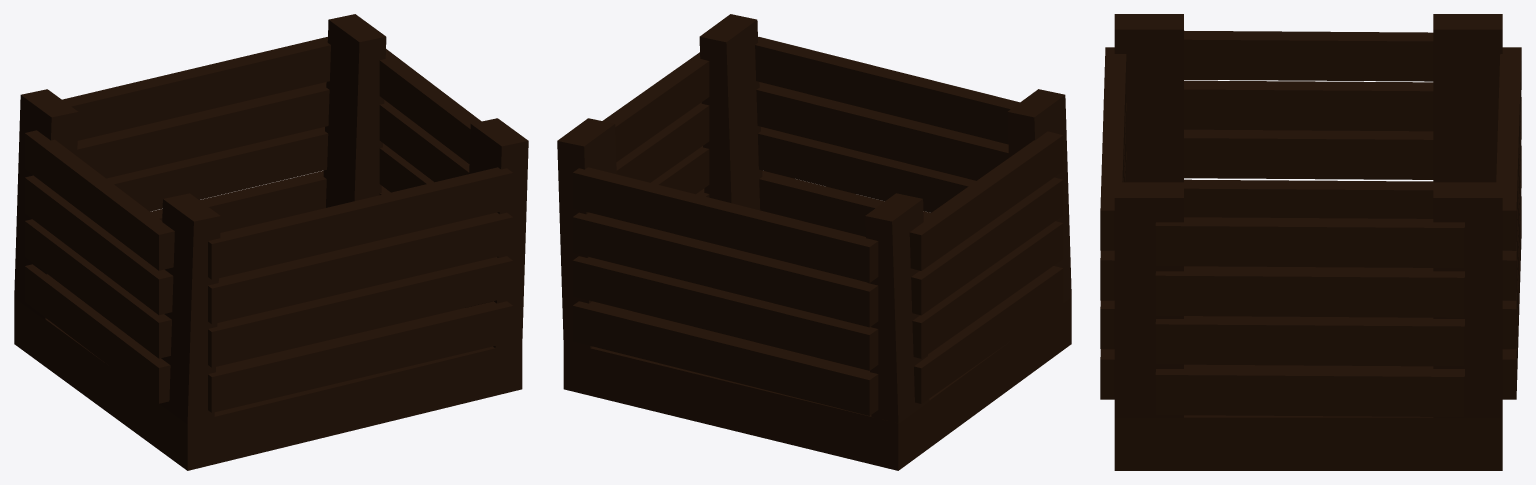
3 views of the same model, side by side, from view 1: azimuth 30°, elevation 25°; view 2: azimuth 150°, elevation 25°; view 3: azimuth 270°, elevation 25° (orthographic). The views are drawn at different scales.
Parts seen in each view (by area): view 1: box 1 (×20); view 2: box 1 (×20); view 3: box 1 (×21).
Part boxes in pixels (x1,y1,x2,y2): box 1 (×20): [14, 14, 528, 470]; box 1 (×20): [557, 14, 1071, 470]; box 1 (×21): [1100, 14, 1521, 470].
Size of the model in its own units: 13.22 by 8.67 by 11.92.
